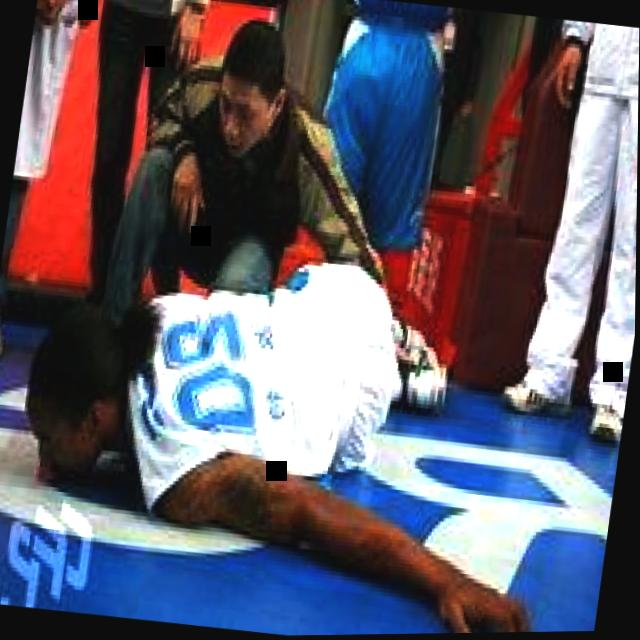Fall-Detected: (11, 174, 598, 640)
